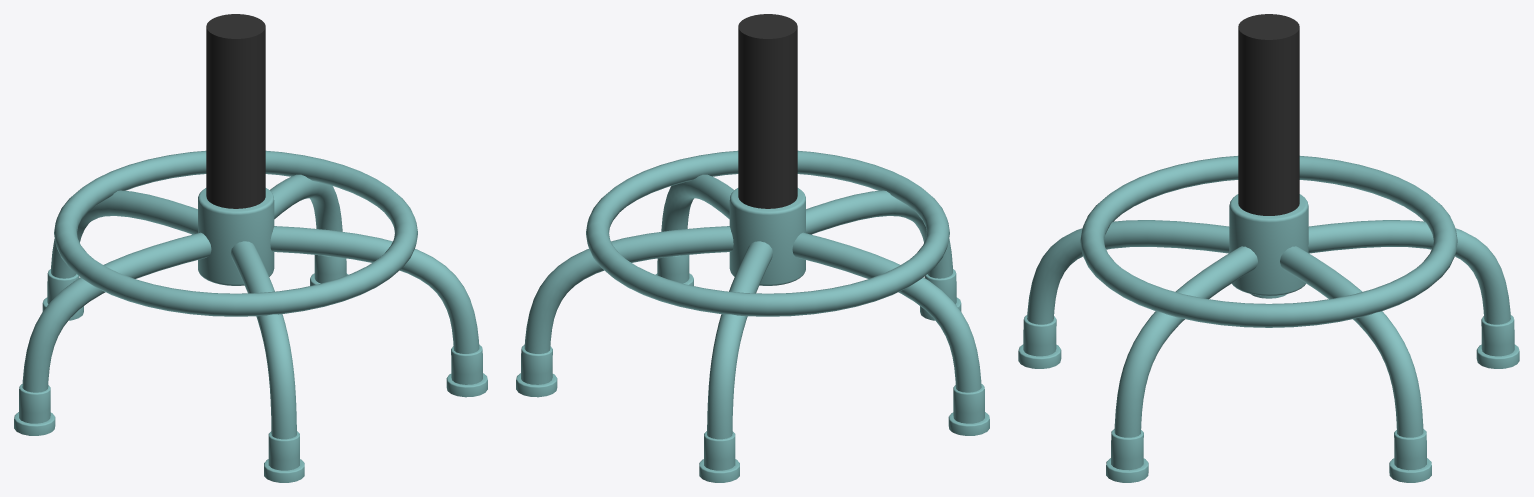
The model's file is PH_ChairBottom.fbx.
3 views of the same model, side by side, from view 1: azimuth 30°, elevation 25°; view 2: azimuth 150°, elevation 25°; view 3: azimuth 270°, elevation 25° (orthographic). The views are drawn at different scales.
Visible parts, largest first — view 1: NurbsPath, Torus, Cylinder.002, Cylinder.003; view 2: NurbsPath, Torus, Cylinder.002, Cylinder.003; view 3: NurbsPath, Torus, Cylinder.002, Cylinder.003.
Part boxes in pixels (<box>): NurbsPath: <box>14,174,487,482</box>; Torus: <box>54,150,417,316</box>; Cylinder.002: <box>206,14,265,208</box>; Cylinder.003: <box>198,188,274,285</box>; NurbsPath: <box>516,174,989,482</box>; Torus: <box>586,150,949,316</box>; Cylinder.002: <box>738,14,797,208</box>; Cylinder.003: <box>729,188,805,285</box>; NurbsPath: <box>1018,220,1519,482</box>; Torus: <box>1080,156,1457,327</box>; Cylinder.002: <box>1238,14,1299,215</box>; Cylinder.003: <box>1229,194,1308,295</box>.
Bounding box in the file's own units: 59.6 × 50.08 × 62.4.
